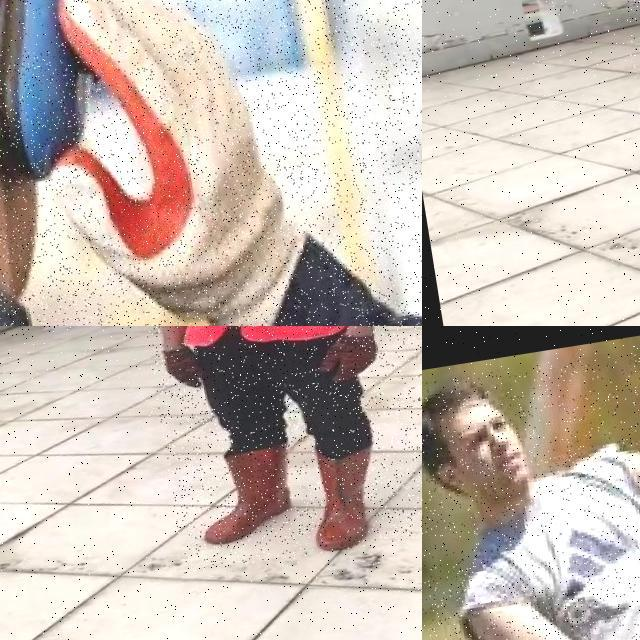boots: (195, 444, 302, 546), (306, 446, 384, 553)
